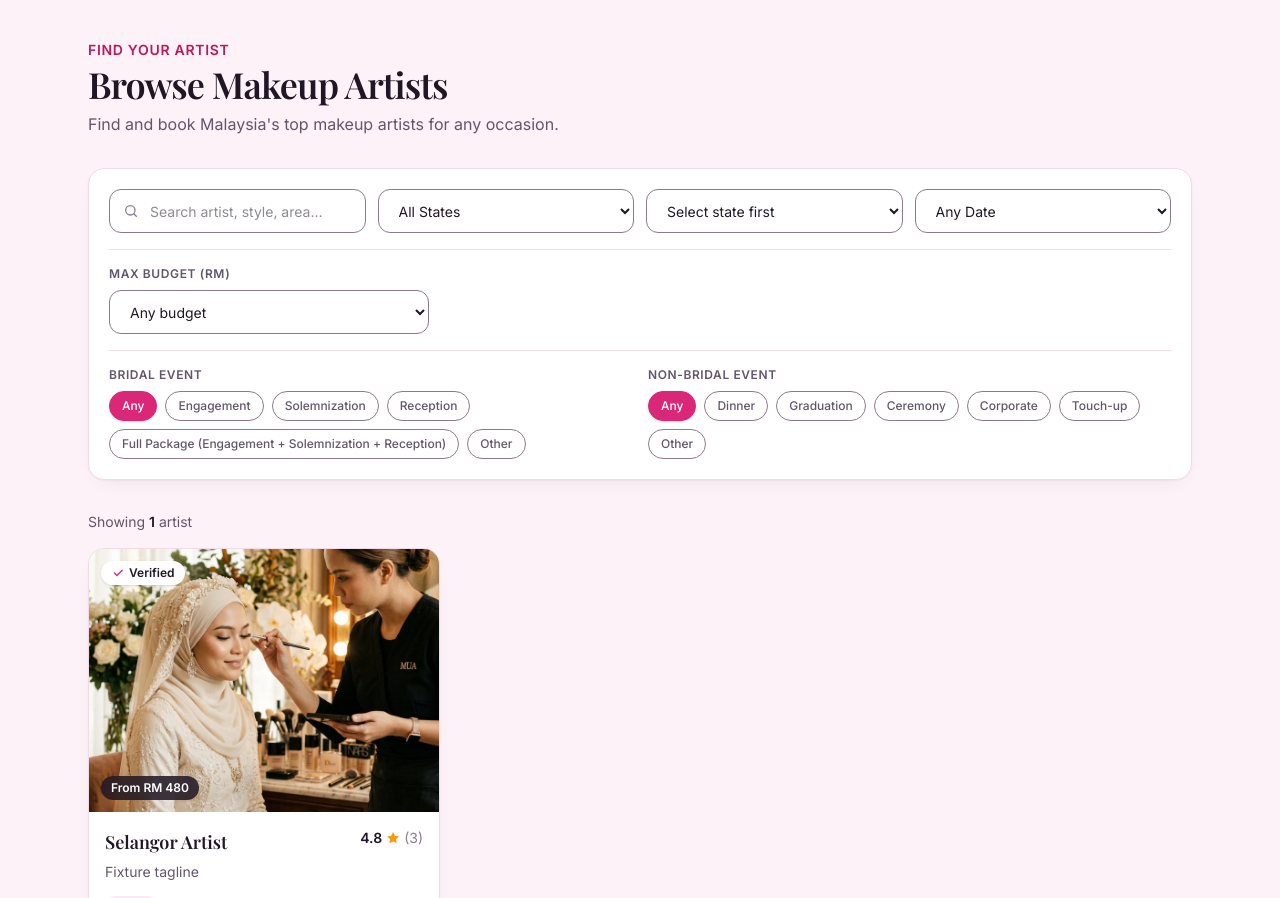
Test: ArtistsBrowser › separates 'no matches' from an empty catalog
Select "Johor" in the 1st dropdown named "State" at {"x": 506, "y": 211}, box [378,189,634,233]
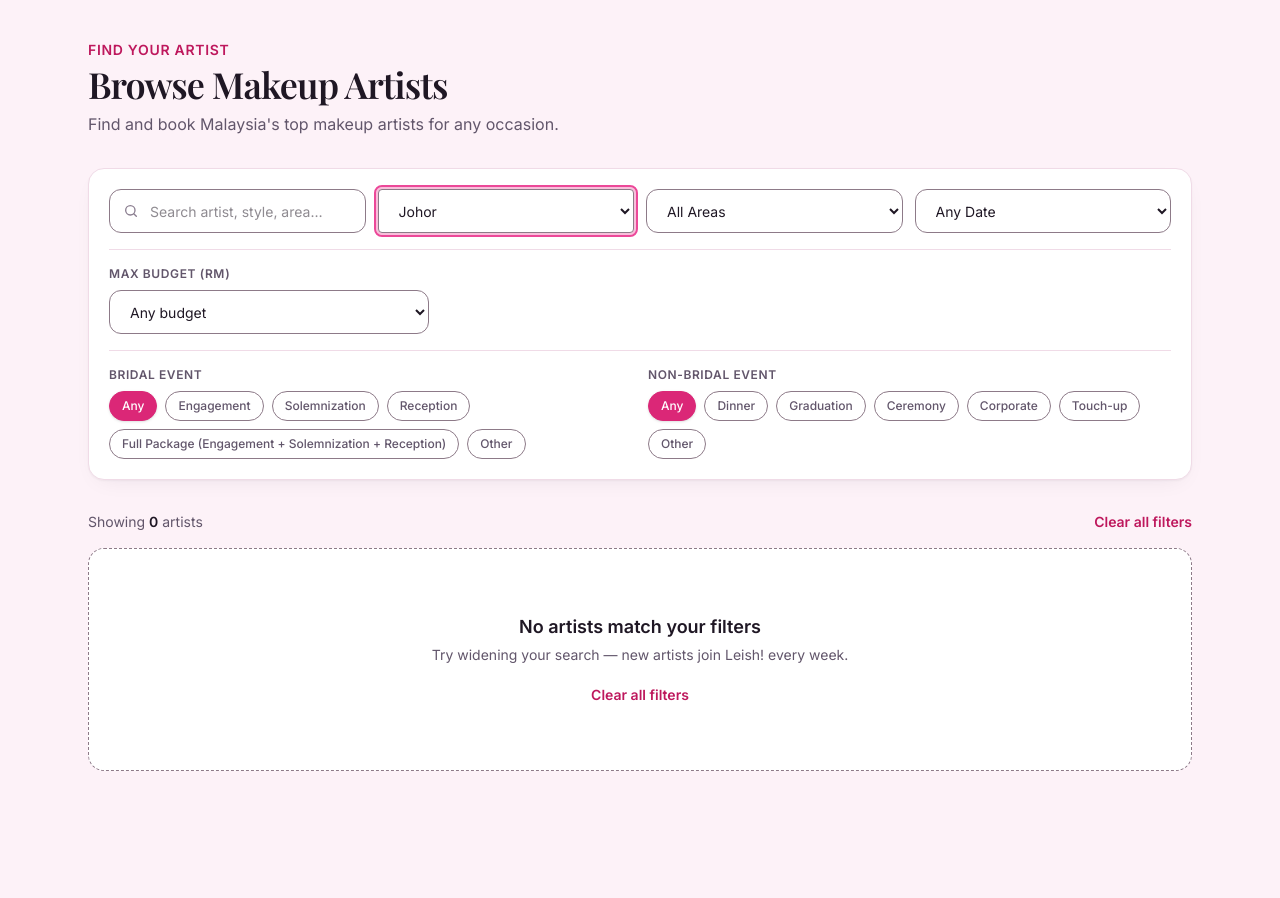
Result: the text "No artists match your filters" is shown at [519,616,761,637]
Result: the button "Clear all filters" in the row of "Showing" is shown at [1094,512,1192,532]
